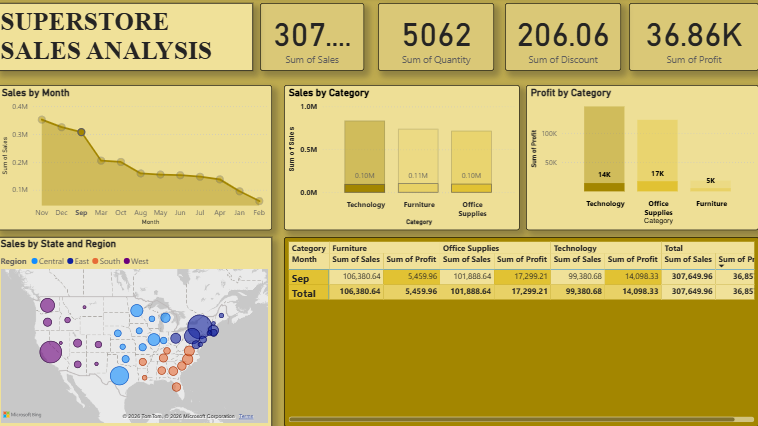

Layout of this report page (visuals, bound fields, positions):
{"tool":"powerbi","page":{"name":"Page 1","canvas":[1280,720],"ordinal":0},"visuals":[{"type":"card","fields":{"Values":["Sum(Superstoree excel.Sales)"]},"box":[430,8.4,210,114.2],"z":0},{"type":"card","fields":{"Values":["Sum(Superstoree excel.Profit)"]},"box":[1061.6,8.4,218.4,114.2],"z":1000},{"type":"card","fields":{"Values":["Sum(Superstoree excel.Discount)"]},"box":[853.3,8.4,194.9,114.2],"z":2000},{"type":"card","fields":{"Values":["Sum(Superstoree excel.Quantity)"]},"box":[640,8.4,194.9,114.2],"z":3000},{"type":"columnChart","title":"Sales by Category","fields":{"Category":["Superstoree excel.Category"],"Y":["Sum(Superstoree excel.Sales)"]},"box":[482.1,146.1,396.4,243.6],"z":4000},{"type":"clusteredColumnChart","title":" Profit by Category","fields":{"Y":["Sum(Superstoree excel.Profit)"],"Category":["Superstoree excel.Category"]},"box":[888.6,146.1,391.4,243.6],"z":5000},{"type":"lineChart","title":" Sales by Month","fields":{"Category":["Superstoree excel.Month"],"Y":["Sum(Superstoree excel.Sales)"]},"box":[0,146.1,461.9,243.6],"z":6000},{"type":"pivotTable","fields":{"Rows":["Superstoree excel.Month"],"Columns":["Superstoree excel.Category"],"Values":["Sum(Superstoree excel.Sales)","Sum(Superstoree excel.Profit)"]},"box":[482.1,401.5,797.9,319.2],"z":7000},{"type":"map","title":"Sales by State and Region","fields":{"Series":["Superstoree excel.Region"],"Size":["Sum(Superstoree excel.Sales)"],"Category":["Superstoree excel.State"]},"box":[0,401.5,461.9,319.2],"z":8000},{"type":"textbox","box":[0,8.4,430,114.2],"z":9000}]}

Visuals, with their boxes in screenshot pixels (x1, y1, x2, y2), scaled from the page's 1280x720 canvas onto the 758x426 screenshot:
card - Sum(Superstoree excel.Sales): l=255, t=5, r=379, b=73
card - Sum(Superstoree excel.Profit): l=629, t=5, r=757, b=73
card - Sum(Superstoree excel.Discount): l=505, t=5, r=621, b=73
card - Sum(Superstoree excel.Quantity): l=379, t=5, r=494, b=73
"Sales by Category" columnChart: l=285, t=86, r=520, b=231
" Profit by Category" clusteredColumnChart: l=526, t=86, r=757, b=231
" Sales by Month" lineChart: l=0, t=86, r=274, b=231
pivotTable - Superstoree excel.Month x Superstoree excel.Category: l=285, t=238, r=757, b=425
"Sales by State and Region" map: l=0, t=238, r=274, b=425
textbox: l=0, t=5, r=255, b=73
